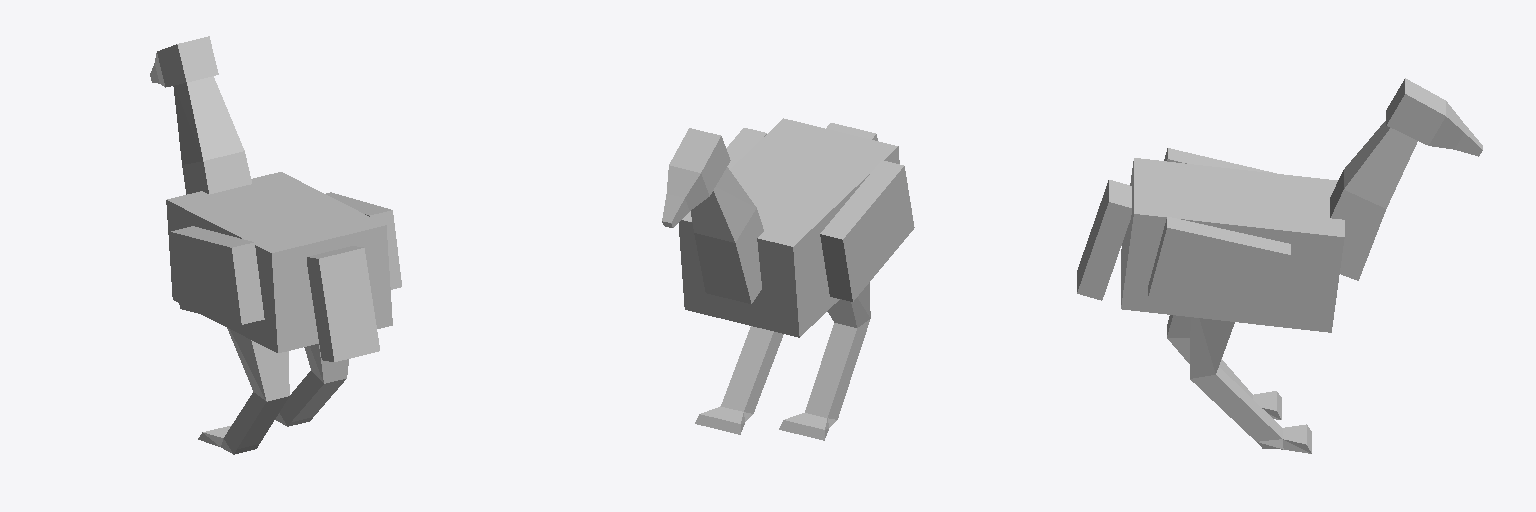
The model's file is Ostrich_000136.obj.
3 views of the same model, side by side, from view 1: azimuth 30°, elevation 25°; view 2: azimuth 150°, elevation 25°; view 3: azimuth 270°, elevation 25° (orthographic).
Parts seen in each view (by area): view 1: Cube_Cube.001; view 2: Cube_Cube.001; view 3: Cube_Cube.001.
Part boxes in pixels (left/top/right/bottom): Cube_Cube.001: left=150, top=36, right=401, bottom=454; Cube_Cube.001: left=662, top=118, right=914, bottom=440; Cube_Cube.001: left=1077, top=78, right=1482, bottom=453.
Bounding box in the file's own units: 0.7 × 1.41 × 1.53.